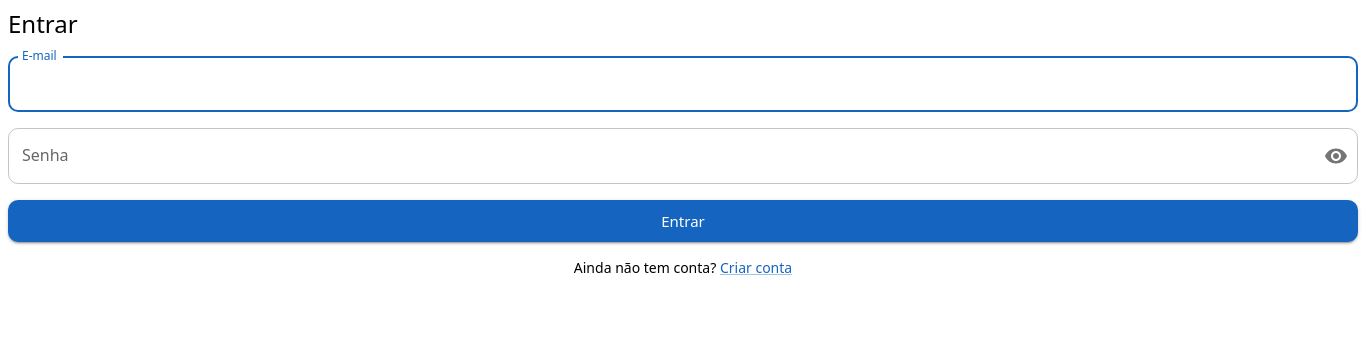
Test case: Login: 401 (credenciais incorretas) › e-mail que não existe dá exatamente a mesma mensagem (não revela qual falhou)
Type "ninguem@example.com" into the field labelled "E-mail". click: (683, 84)
box: [8,56,1358,112]
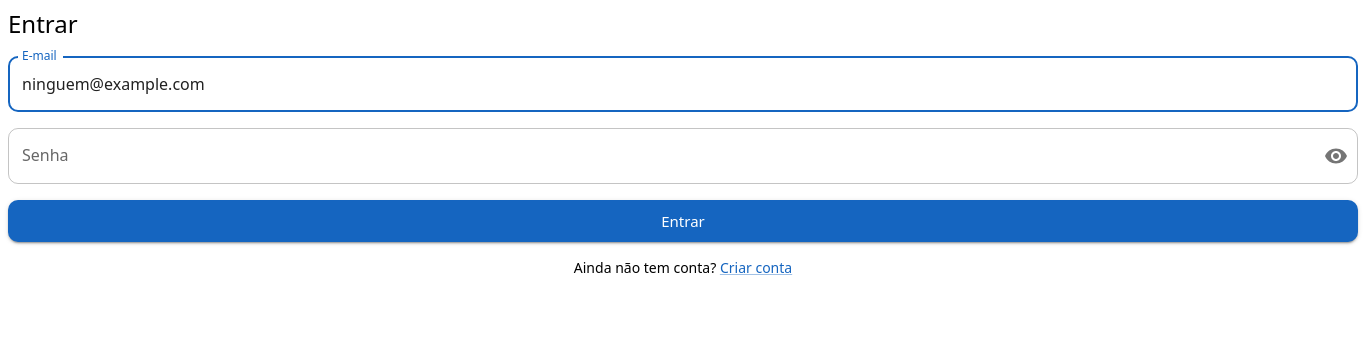
Type "qualquer coisa" into the password field labelled "Senha". click: (658, 156)
box: [8,128,1308,184]
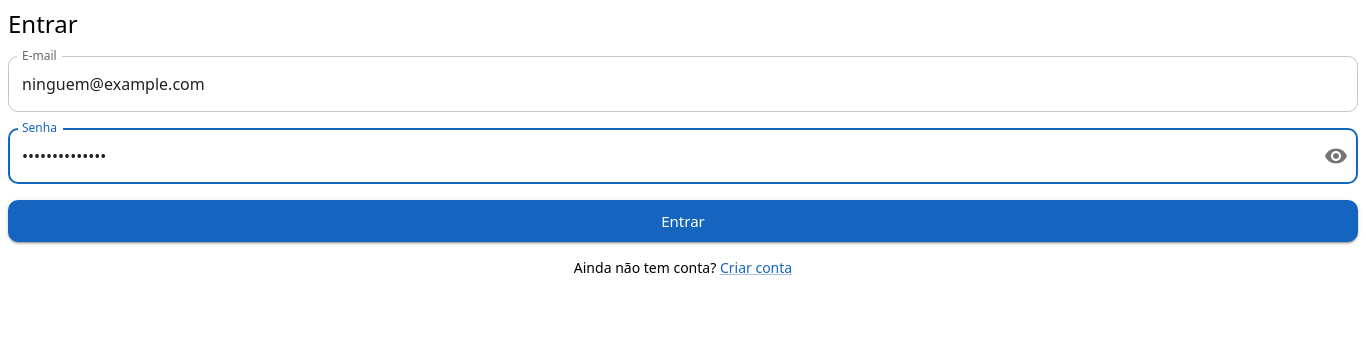
Click the button "Entrar". click: click(683, 221)
box: [8,200,1358,242]
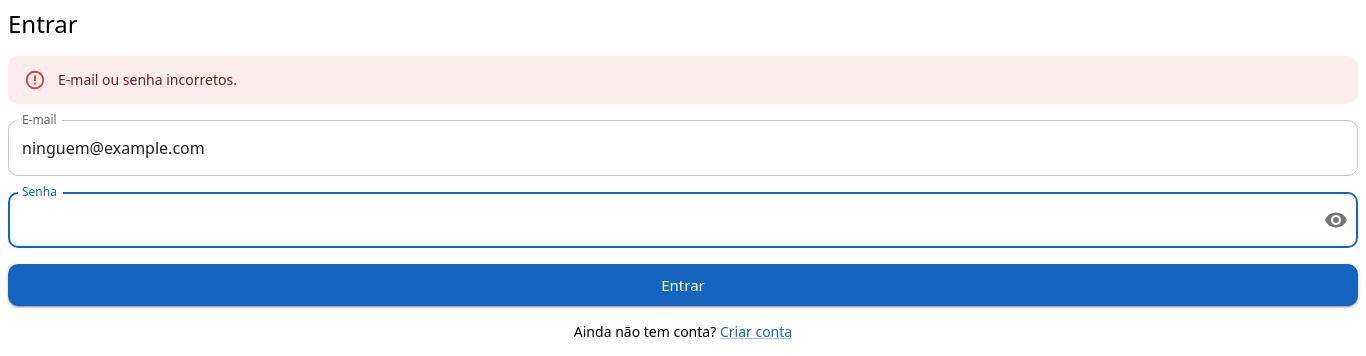
Expected: the text "E-mail ou senha incorretos." is shown, [58,70,237,89]
